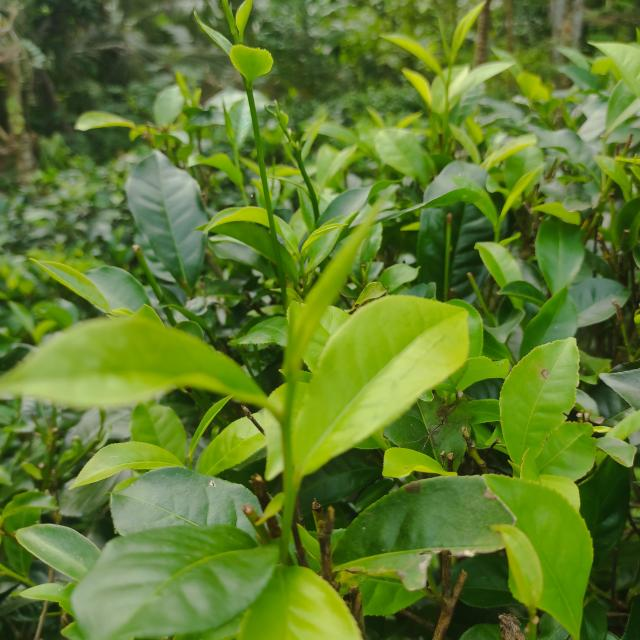unopened_leaf: (274, 177, 412, 379), (432, 5, 452, 55), (220, 99, 240, 142)
